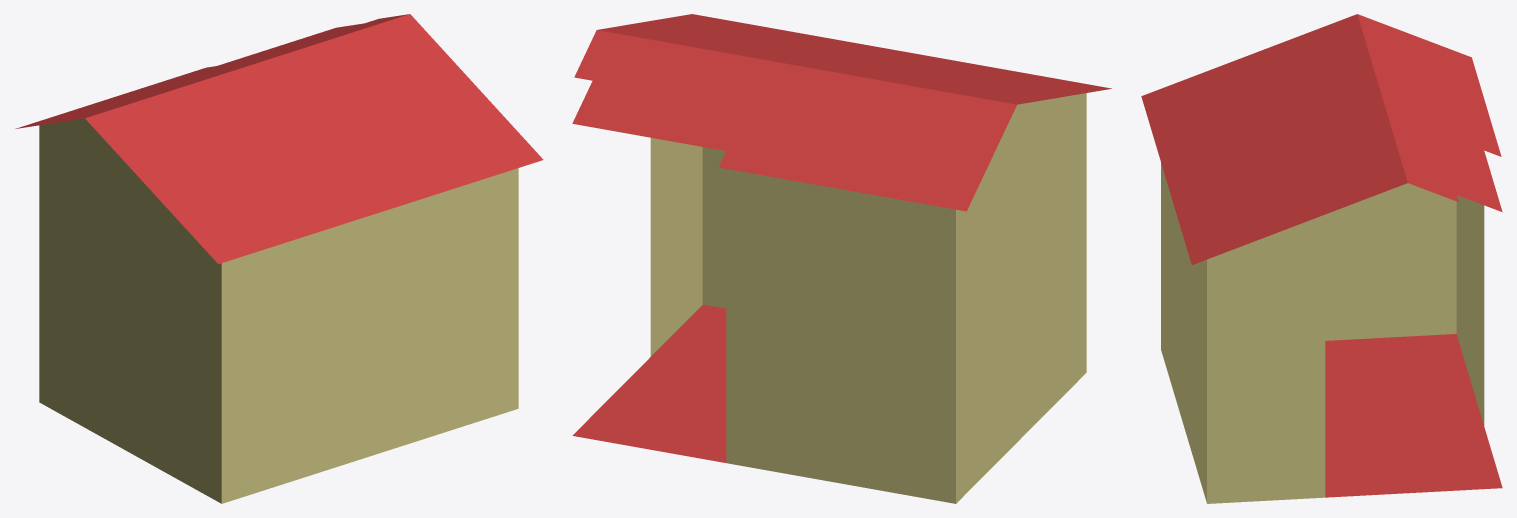
3 renders of one model, left to right at view 1: azimuth 30°, elevation 25°; view 2: azimuth 150°, elevation 25°; view 3: azimuth 270°, elevation 25°, orthographic. The views are drawn at different scales.
Size of the model in its own units: 12.52 by 10.24 by 9.94.
